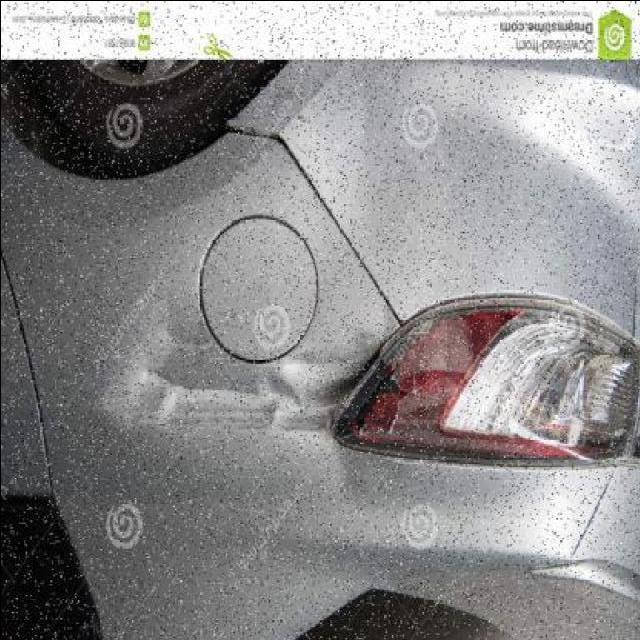Taillight-Damage: (317, 264, 637, 498)
quaterpanel-dent: (10, 51, 360, 507)
rear-bumper-dent: (217, 57, 640, 343)
